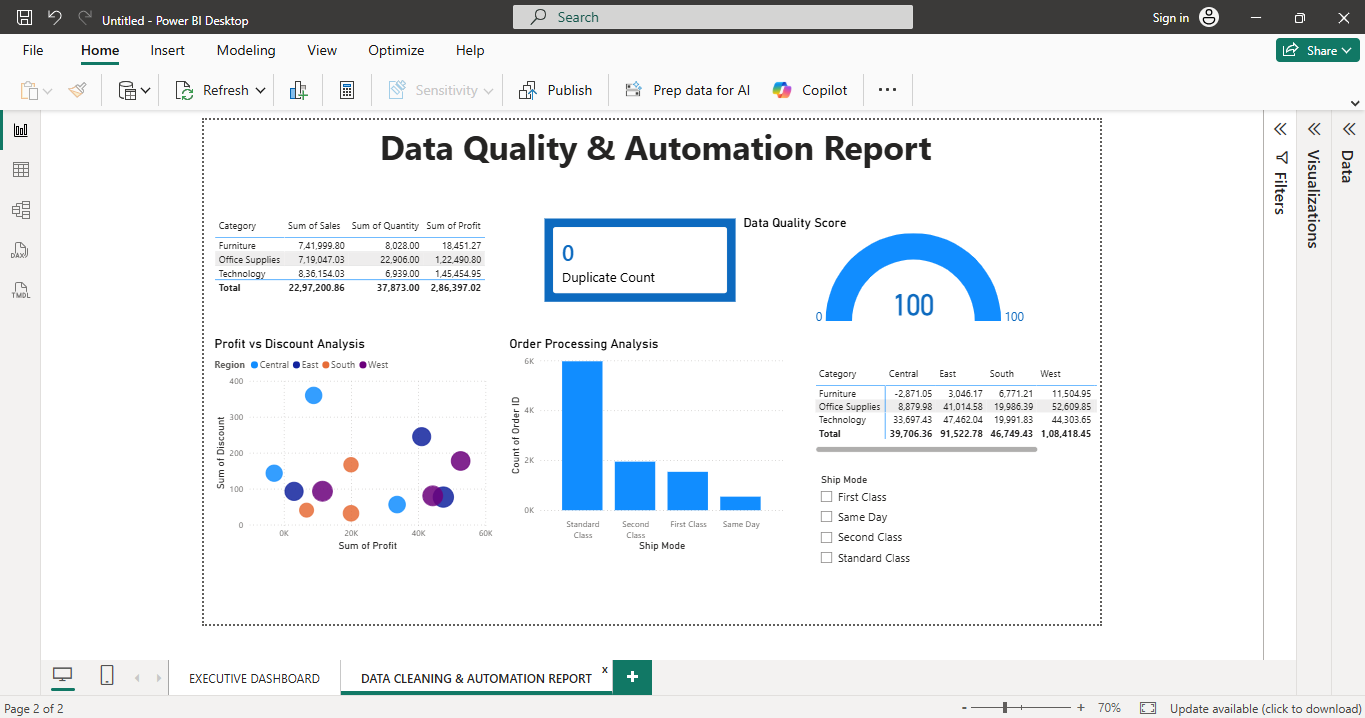

What the dashboard file says about the page in this screenshot:
{"tool":"powerbi","page":{"name":"DATA CLEANING & AUTOMATION REPORT","canvas":[1280,720],"ordinal":1},"visuals":[{"type":"textbox","box":[10.1,0,1269.9,97.4],"z":0},{"type":"tableEx","fields":{"Values":["Sample - Superstore.Category","Sum(Sample - Superstore.Sales)","Sum(Sample - Superstore.Quantity)","Sum(Sample - Superstore.Profit)"]},"box":[10.1,136.1,431.7,203.3],"z":1000},{"type":"cardVisual","fields":{"Data":["Superstore.Duplicate Count"]},"box":[482.1,136.1,283.9,129.3],"z":2000},{"type":"scatterChart","title":"Profit vs Discount Analysis","fields":{"X":["Sum(Superstore.Profit)"],"Y":["Sum(Superstore.Discount)"],"Size":["Sum(Superstore.Sales)"],"Category":["Superstore.Category"],"Series":["Superstore.Region"]},"box":[10,308.6,407.1,312.9],"z":3000},{"type":"columnChart","title":"Order Processing Analysis","fields":{"Category":["Superstore.Ship Mode"],"Y":["CountNonNull(Superstore.Order ID)"]},"box":[431.4,308.6,401.4,312.9],"z":4000},{"type":"gauge","fields":{"Y":["Superstore.Data Quality Score"]},"box":[766,136.1,514,161.3],"z":5000},{"type":"pivotTable","fields":{"Rows":["Superstore.Category"],"Columns":["Superstore.Region"],"Values":["Sum(Superstore.Profit)"]},"box":[868.5,347.7,411.5,132.7],"z":6000},{"type":"slicer","fields":{"Values":["Superstore.Ship Mode"]},"box":[868.5,500.6,411.5,199.9],"z":7000}]}

Visuals, with their boxes on the page's 1280x720 design canvas (x1, y1, x2, y2). These are canvas units, not pixel positions in the 1365x718 screenshot, which may show the page scaled, cropped or inside an application window:
textbox: [10, 0, 1280, 97]
tableEx - Sample - Superstore.Category x Sum(Sample - Superstore.Sales): [10, 136, 442, 339]
cardVisual - Superstore.Duplicate Count: [482, 136, 766, 265]
"Profit vs Discount Analysis" scatterChart: [10, 309, 417, 622]
"Order Processing Analysis" columnChart: [431, 309, 833, 622]
gauge - Superstore.Data Quality Score: [766, 136, 1280, 297]
pivotTable - Superstore.Category x Superstore.Region: [868, 348, 1280, 480]
slicer - Superstore.Ship Mode: [868, 501, 1280, 700]
